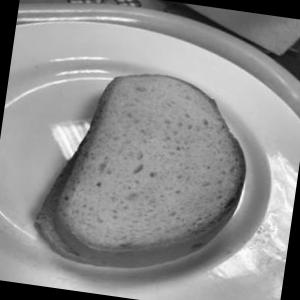bread: (39, 43, 268, 284)
